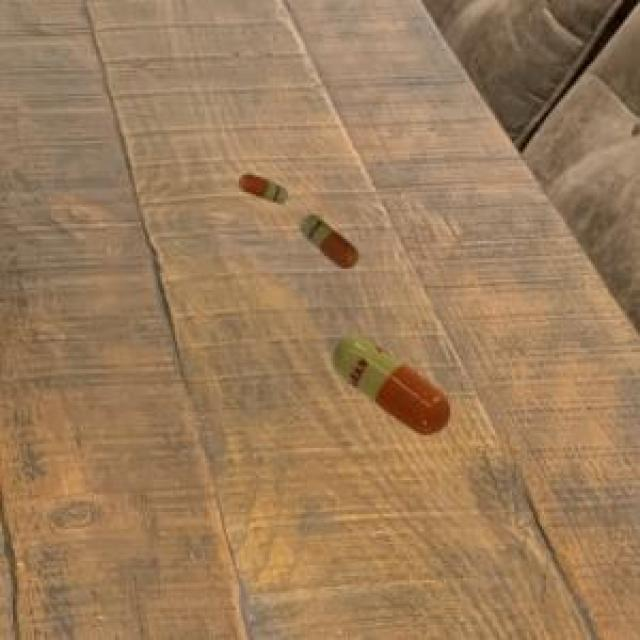Alaxan: (323, 327, 456, 443), (298, 209, 363, 273), (238, 165, 291, 210)
